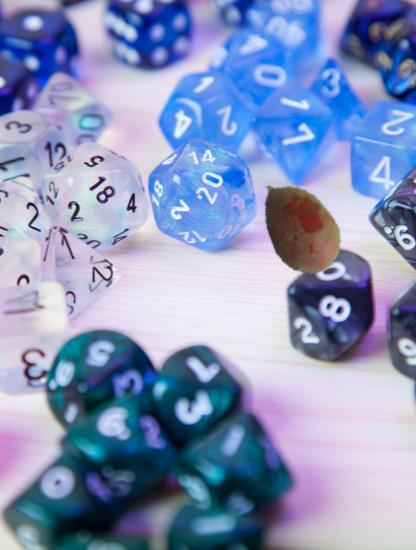Potato: (250, 174, 354, 278)
